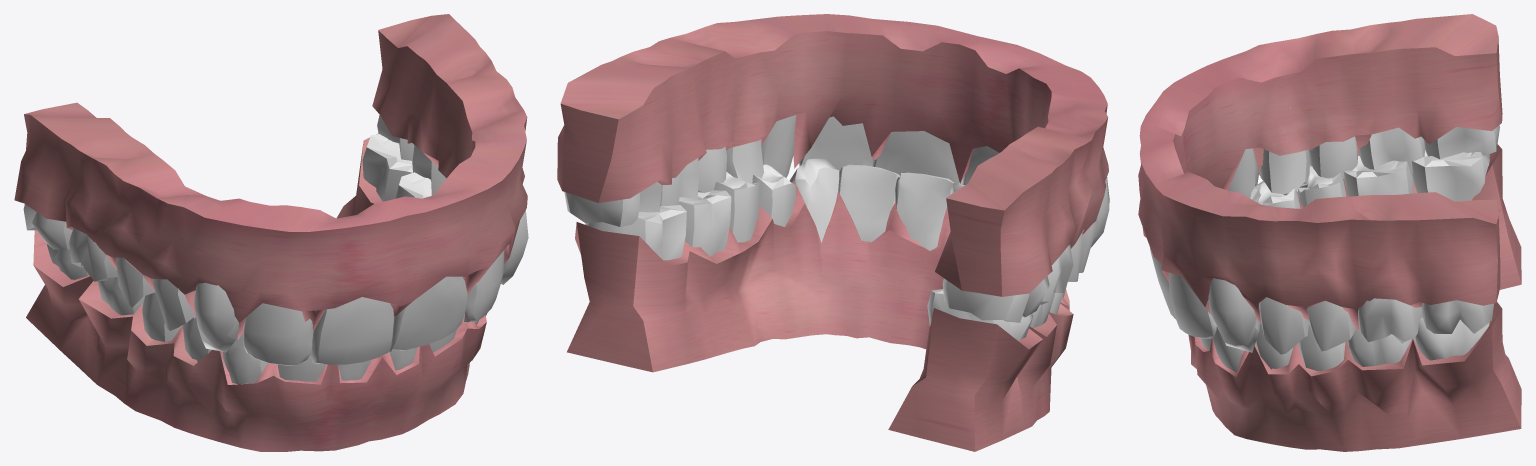
File: Tooth.fbx
3 renders of one model, left to right at view 1: azimuth 30°, elevation 25°; view 2: azimuth 150°, elevation 25°; view 3: azimuth 270°, elevation 25°, orthographic. The views are drawn at different scales.
Visible parts, largest first — view 1: gum_top, gum_btm, tooth_up_R_1, tooth_up_L_1, tooth_up_R_2, tooth_up_R_3, tooth_btm_L_7, tooth_up_R_6, tooth_up_L_2, tooth_up_R_4, tooth_btm_R_3, tooth_up_R_7 (+10 smaller); view 2: gum_top, gum_btm, tooth_btm_L_2, tooth_btm_L_1, tooth_up_L_1, tooth_btm_L_6, tooth_btm_L_7, tooth_up_R_7, tooth_btm_L_3, tooth_up_L_2, tooth_up_L_7, tooth_btm_L_5 (+7 smaller); view 3: gum_top, gum_btm, tooth_btm_R_7, tooth_up_L_3, tooth_up_L_6, tooth_btm_R_6, tooth_up_L_4, tooth_up_R_6, tooth_up_L_7, tooth_up_L_2, tooth_up_R_4, tooth_btm_L_7 (+11 smaller).
Part boxes in pixels (x1,y1,x2,y2): gum_top: (14,14,527,339); gum_btm: (26,133,486,451); tooth_up_R_1: (311,297,394,364); tooth_up_L_1: (392,276,467,350); tooth_up_R_2: (242,303,312,365); tooth_up_R_3: (194,282,239,352); tooth_btm_L_7: (362,134,412,201); tooth_up_R_6: (69,228,117,281); tooth_up_L_2: (464,250,504,322); tooth_up_R_4: (152,279,195,330); tooth_btm_R_3: (223,333,267,384); tooth_up_R_7: (23,204,72,249); gum_top: (557,14,1108,296); gum_btm: (567,180,1073,451); tooth_btm_L_2: (838,164,899,242); tooth_btm_L_1: (895,172,954,250); tooth_up_L_1: (872,131,962,185); tooth_btm_L_6: (678,190,731,256); tooth_btm_L_7: (585,205,686,260); tooth_up_R_7: (942,276,1049,322); tooth_btm_L_3: (789,158,839,242); tooth_up_L_2: (799,116,872,172); tooth_up_L_7: (564,182,661,226); tooth_btm_L_5: (714,172,760,242); gum_top: (1138,14,1502,330); gum_btm: (1188,144,1521,451); tooth_btm_R_7: (1411,150,1490,201); tooth_up_L_3: (1208,278,1260,352); tooth_up_L_6: (1358,298,1422,343); tooth_btm_R_6: (1343,155,1413,196); tooth_up_L_4: (1259,297,1309,354); tooth_up_R_6: (1359,127,1424,173); tooth_up_L_7: (1422,300,1493,333); tooth_up_L_2: (1168,272,1216,338); tooth_up_R_4: (1259,107,1309,195); tooth_btm_L_7: (1413,317,1489,360).
Size of the model in its own units: 11.36 by 6.91 by 8.59.
